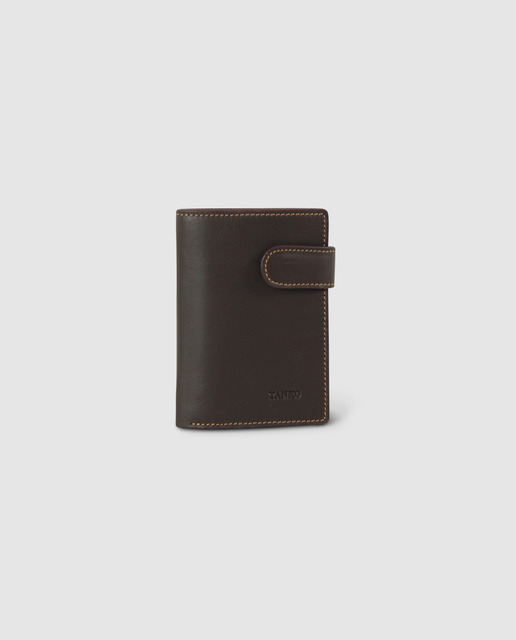monedero: (175, 207, 336, 433)
